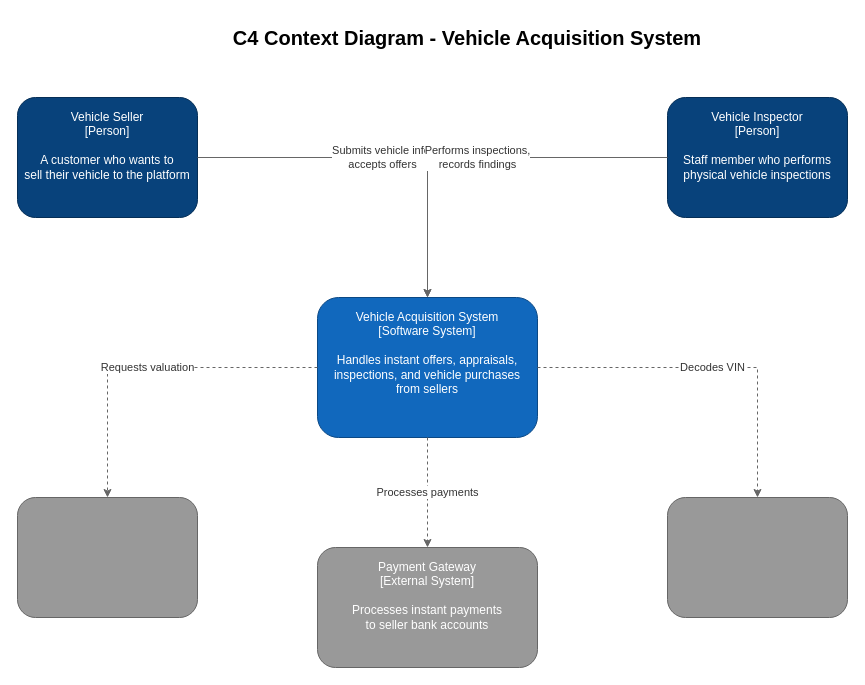
The diagram is 865 pixels wide and 685 high, and some of its shapes have lost their labels. The shapes that lost their labels are listed below. From the top down, each one's centre as x and y in pixels, then its label:
the point at 107,557: Valuation Service [External System] AI-powered vehicle valuation engine
the point at 757,557: VIN Decoder [External System] Decodes VIN to get vehicle specifications
